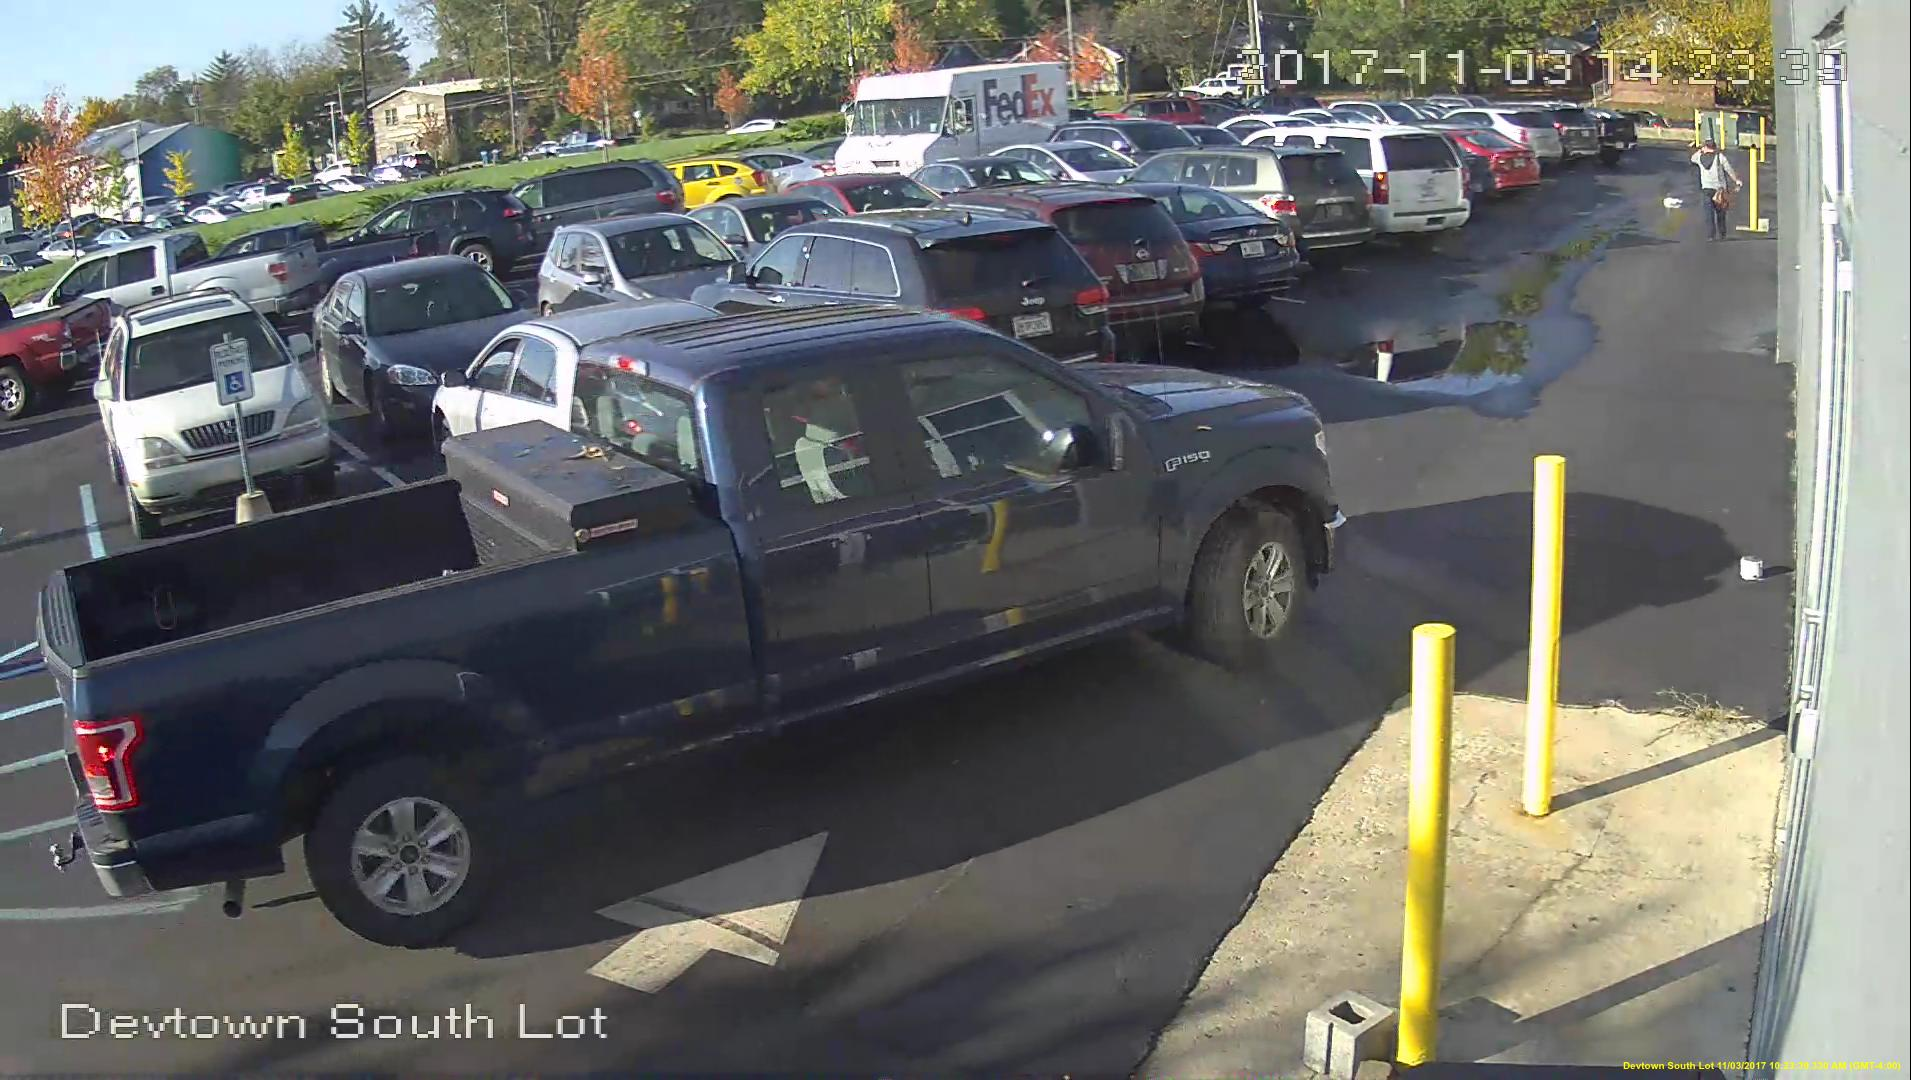fedex_truck: (833, 55, 1074, 182)
